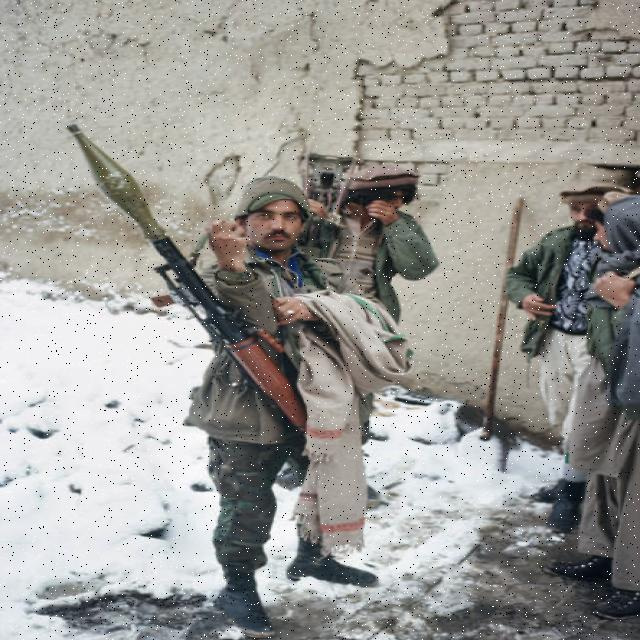bazooka: (55, 114, 300, 443)
